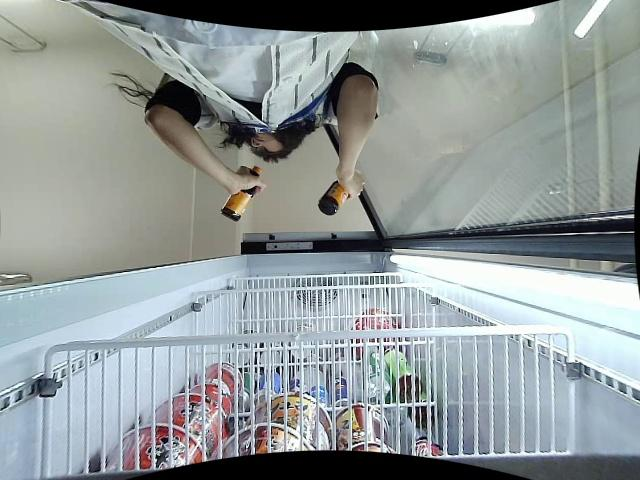00_hand: (224, 165, 267, 197), (337, 169, 365, 203)
17_vita500: (222, 165, 262, 222), (318, 180, 349, 215)
